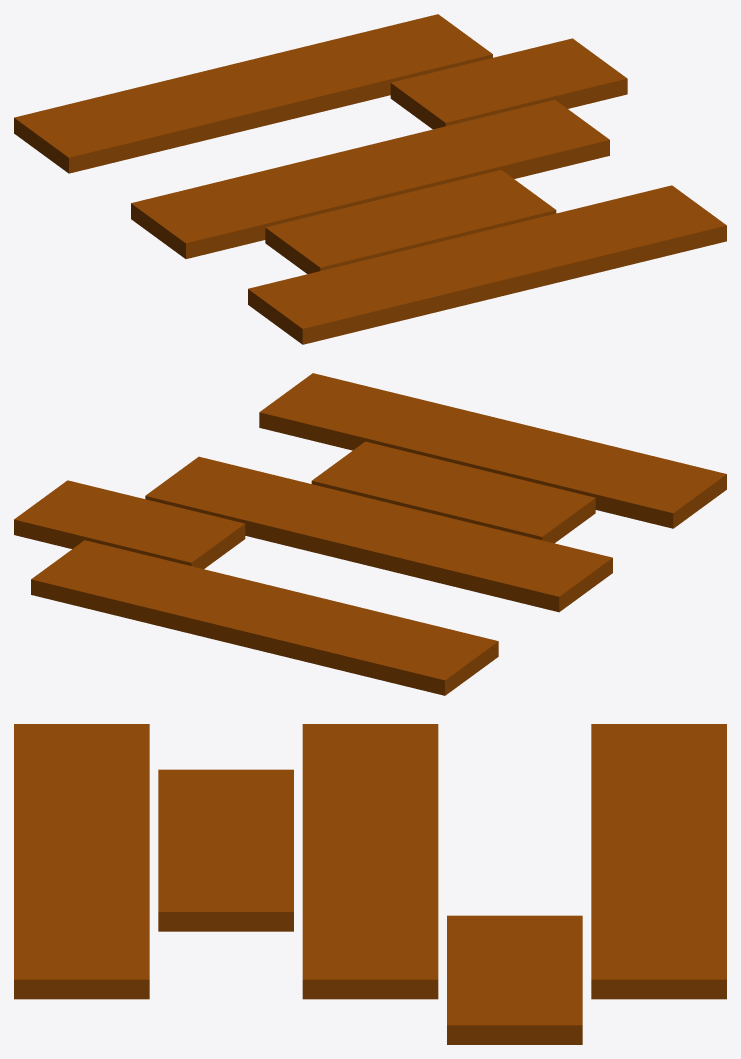
File: RPG_Tiles_Square_Wooden_Boards_13.FBX
3 views of the same model, one above another, from view 1: azimuth 30°, elevation 25°; view 2: azimuth 150°, elevation 25°; view 3: azimuth 270°, elevation 25° (orthographic). The views are drawn at different scales.
Parts seen in each view (by area): view 1: RPG_Tiles_Square_Wooden_Boards_13; view 2: RPG_Tiles_Square_Wooden_Boards_13; view 3: RPG_Tiles_Square_Wooden_Boards_13.
Boxes of the visible parts, x1,y1,x2,y2 form: RPG_Tiles_Square_Wooden_Boards_13: (14, 14, 726, 344); RPG_Tiles_Square_Wooden_Boards_13: (14, 373, 726, 695); RPG_Tiles_Square_Wooden_Boards_13: (14, 724, 726, 1044).
Size of the model in its own units: 2964 by 90 by 2964.
